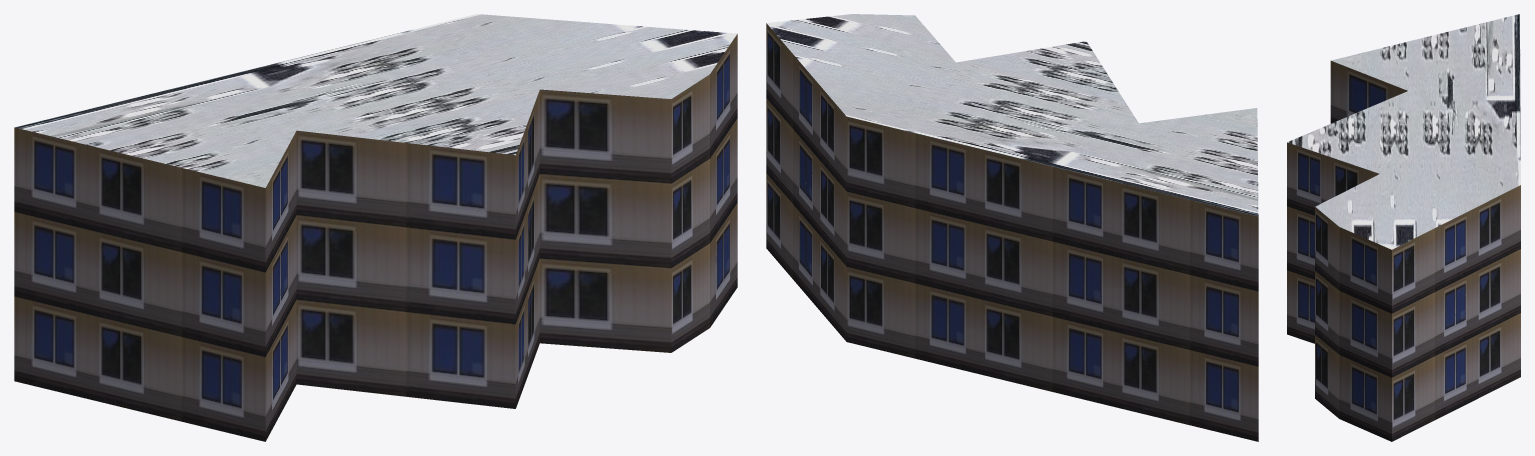
File: ResTex__4791.fbx
The picture shows the model from 3 angles, left to right: view 1: azimuth 30°, elevation 25°; view 2: azimuth 150°, elevation 25°; view 3: azimuth 270°, elevation 25°; orthographic projection. The views are drawn at different scales.
Parts seen in each view (by area): view 1: CityEngineMaterial_5_m, CityEngineMaterial_4_m; view 2: CityEngineMaterial_5_m, CityEngineMaterial_4_m; view 3: CityEngineMaterial_5_m, CityEngineMaterial_4_m.
Part boxes in pixels (left/top/right/bottom): CityEngineMaterial_5_m: left=14, top=34, right=737, bottom=441; CityEngineMaterial_4_m: left=15, top=14, right=736, bottom=187; CityEngineMaterial_5_m: left=766, top=23, right=1258, bottom=441; CityEngineMaterial_4_m: left=766, top=14, right=1258, bottom=216; CityEngineMaterial_5_m: left=1287, top=61, right=1520, bottom=441; CityEngineMaterial_4_m: left=1287, top=14, right=1520, bottom=249.
Bounding box in the file's own units: 23.69 × 9 × 9.93.
Materials: 2 (2 with a texture image).
